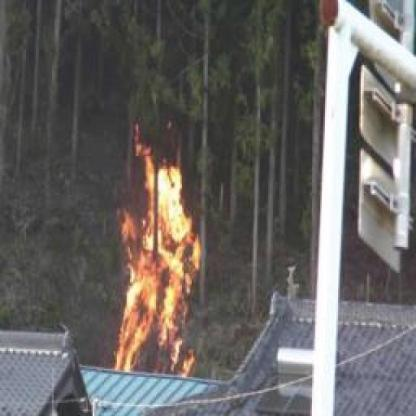fire: (109, 135, 206, 378)
